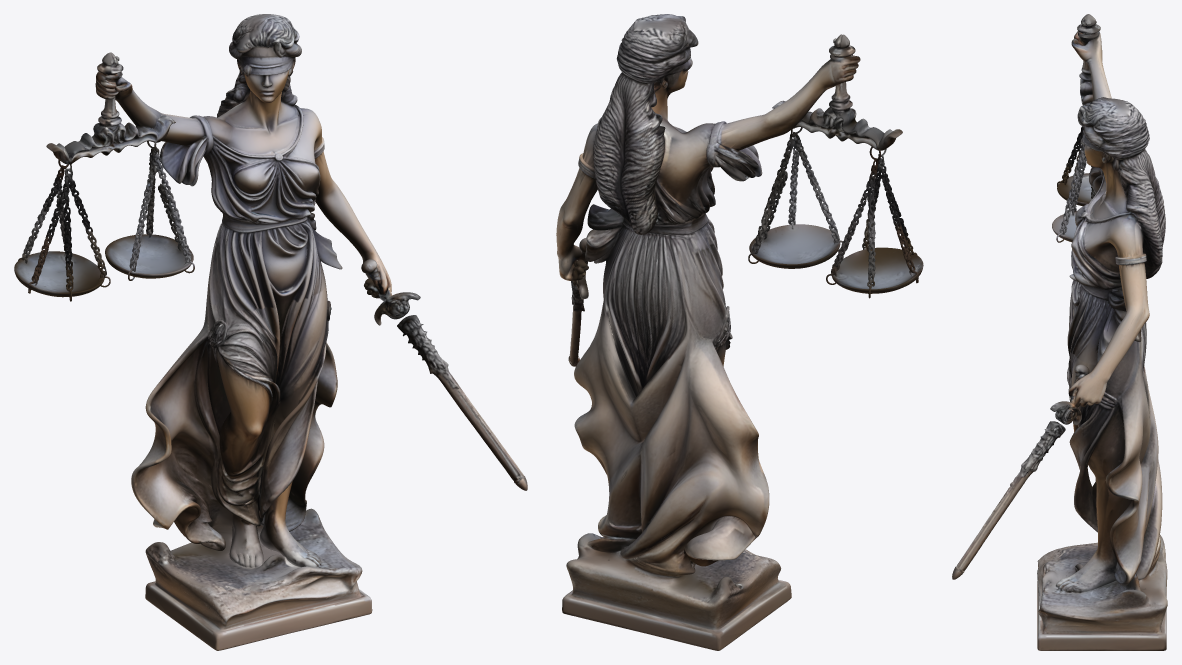
File: ping-nv-shen-v4.glb
3 renders of one model, left to right at view 1: azimuth 30°, elevation 25°; view 2: azimuth 150°, elevation 25°; view 3: azimuth 270°, elevation 25°, orthographic. The views are drawn at different scales.
Visible parts, largest first — view 1: node_0; view 2: node_0; view 3: node_0.
Boxes of the visible parts, x1,y1,x2,y2 form: node_0: (14,14,527,650); node_0: (556,14,923,650); node_0: (952,14,1167,650).
Size of the model in its own units: 0.7927 by 1.07 by 0.3927.
Materials: 1 (1 with a texture image).
